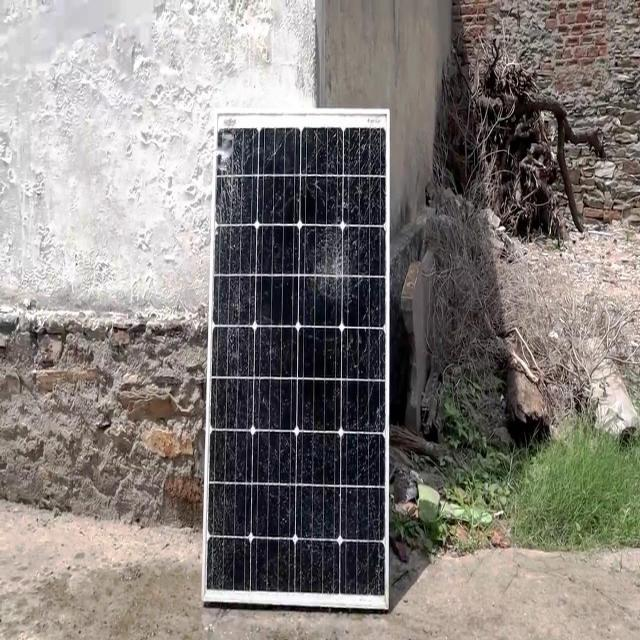faulty: (202, 112, 386, 604)
